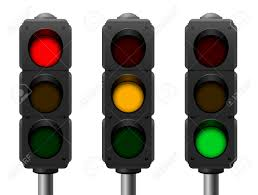green: (183, 17, 240, 175), (187, 22, 231, 166), (193, 28, 228, 159)
